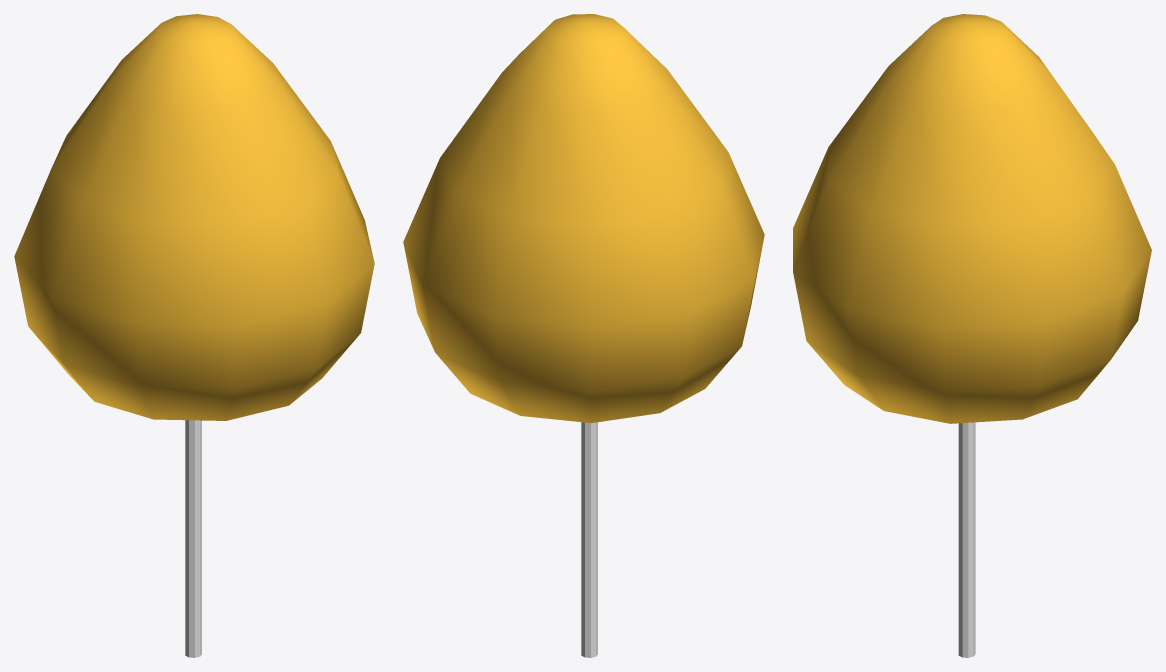
File: 020_Candy_Tree_032.fbx
3 renders of one model, left to right at view 1: azimuth 30°, elevation 25°; view 2: azimuth 150°, elevation 25°; view 3: azimuth 270°, elevation 25°, orthographic.
Parts seen in each view (by area): view 1: Sphere.056, Cylinder.033; view 2: Sphere.056, Cylinder.033; view 3: Sphere.056, Cylinder.033.
Part boxes in pixels (x1,y1,x2,y2): Sphere.056: (14, 14, 374, 420); Cylinder.033: (185, 420, 201, 657); Sphere.056: (403, 14, 764, 423); Cylinder.033: (581, 422, 597, 657); Sphere.056: (793, 14, 1151, 423); Cylinder.033: (958, 422, 975, 657).
Bounding box in the file's own units: 119 × 229 × 118.
